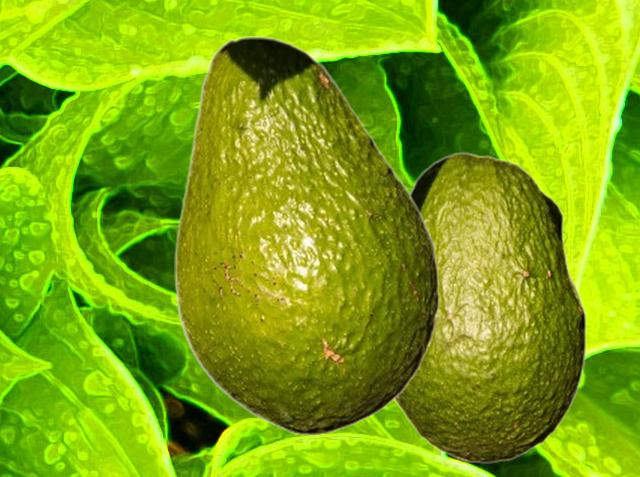avocado: (174, 36, 439, 434), (394, 151, 586, 463)
